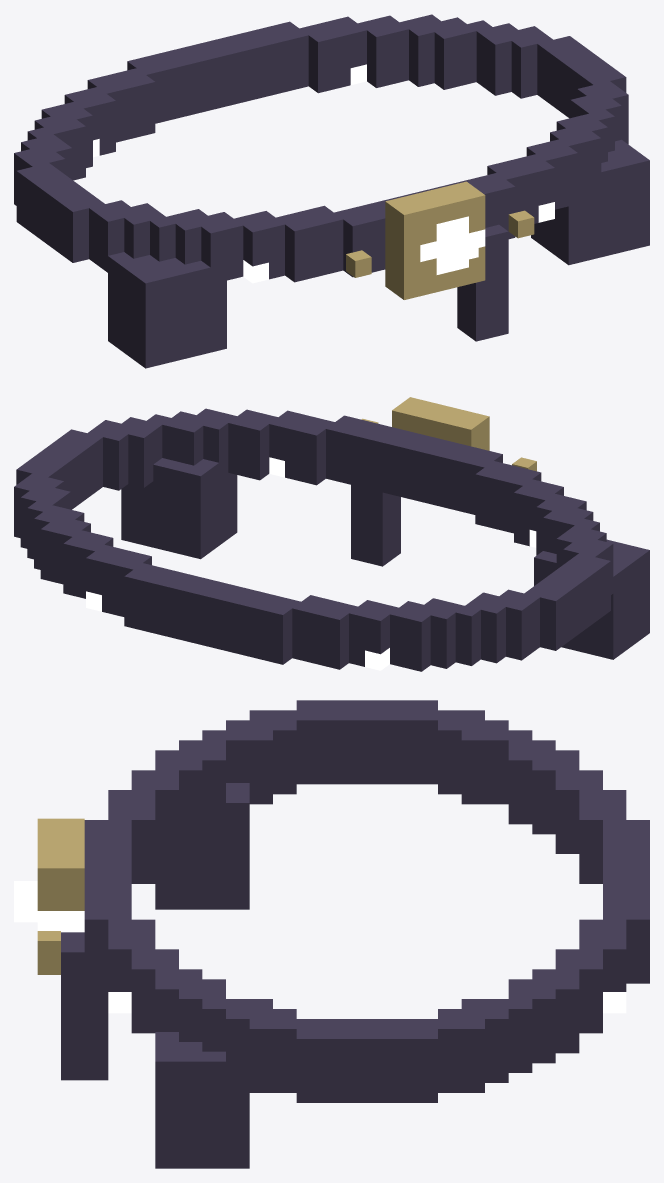
File: mystic_legendary_belt.glb
3 renders of one model, top to bottom at view 1: azimuth 30°, elevation 25°; view 2: azimuth 150°, elevation 25°; view 3: azimuth 270°, elevation 25°, orthographic. The views are drawn at different scales.
Parts seen in each view (by area): view 1: mystic_legendary_belt; view 2: mystic_legendary_belt; view 3: mystic_legendary_belt.
Part boxes in pixels (left/top/right/bottom): mystic_legendary_belt: left=14, top=14, right=649, bottom=368; mystic_legendary_belt: left=14, top=397, right=649, bottom=671; mystic_legendary_belt: left=14, top=700, right=649, bottom=1168.
Size of the model in its own units: 0.408 by 0.108 by 0.324.
